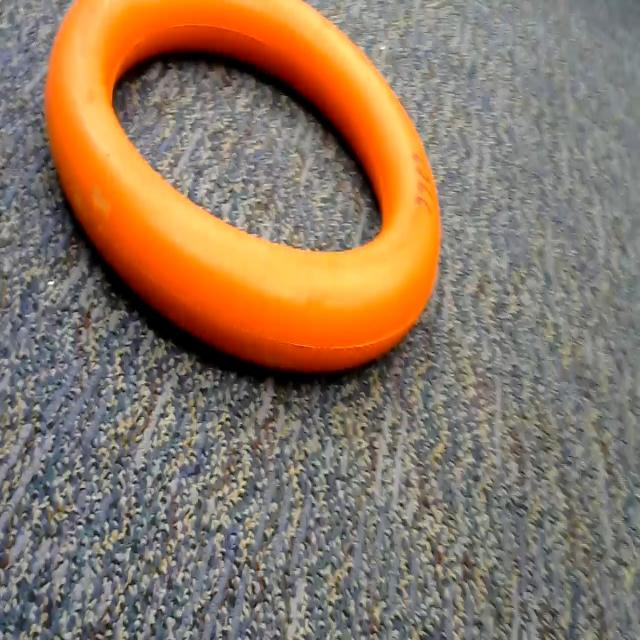note: (36, 0, 461, 405)
